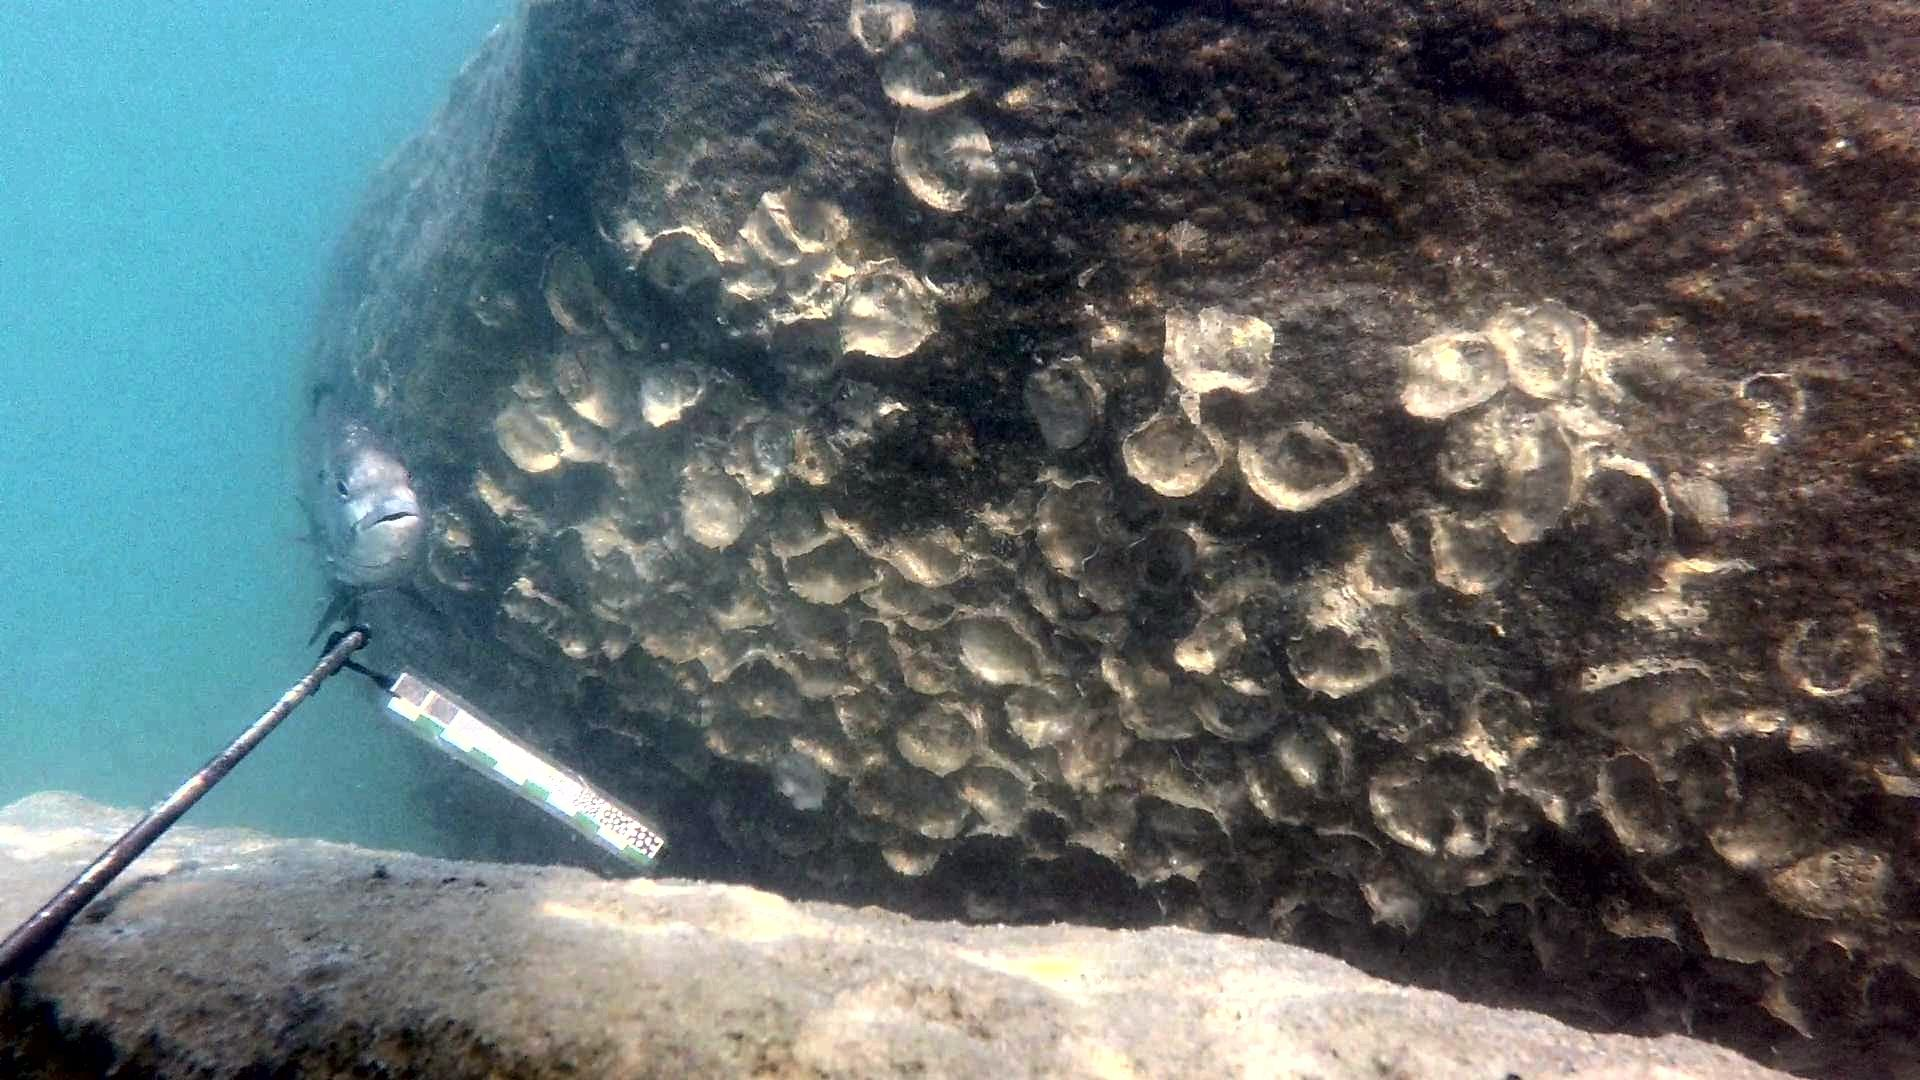acanthopagrus palmaris: (287, 382, 465, 654)
